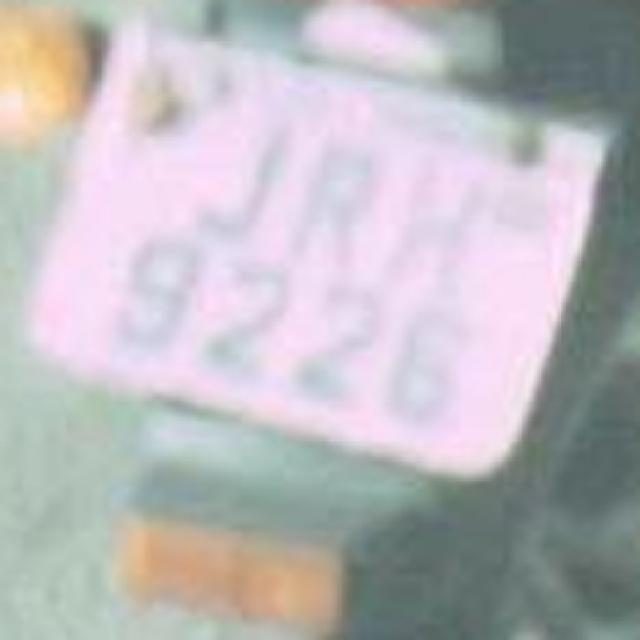2: (275, 252, 400, 408), (192, 240, 300, 385)
6: (376, 284, 489, 431)
9: (100, 220, 208, 368)
B: (280, 120, 392, 272), (384, 144, 491, 296)
J: (176, 96, 284, 244)
